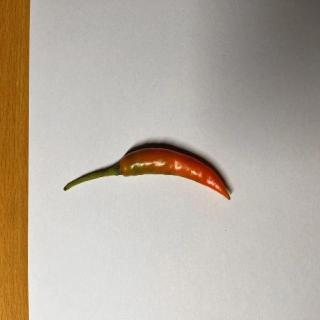Cabai Merah: (63, 147, 233, 201)
